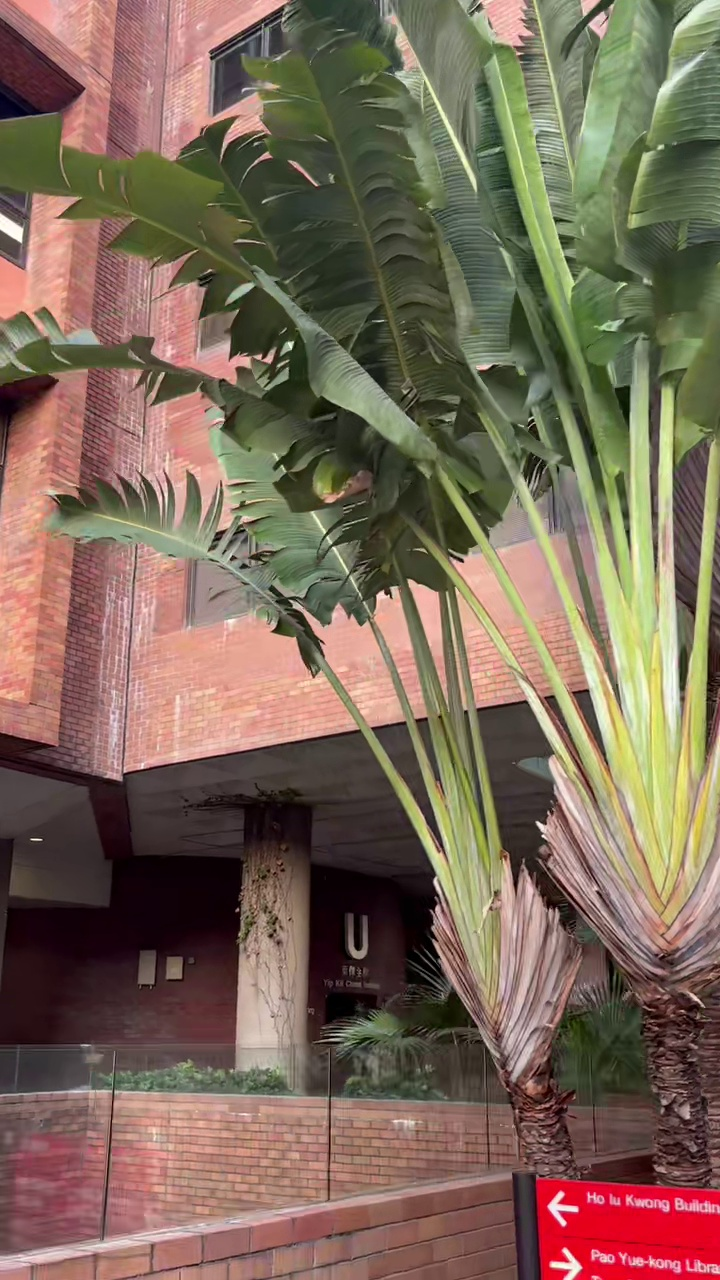Travellers-tree: (0, 0, 719, 1185)
